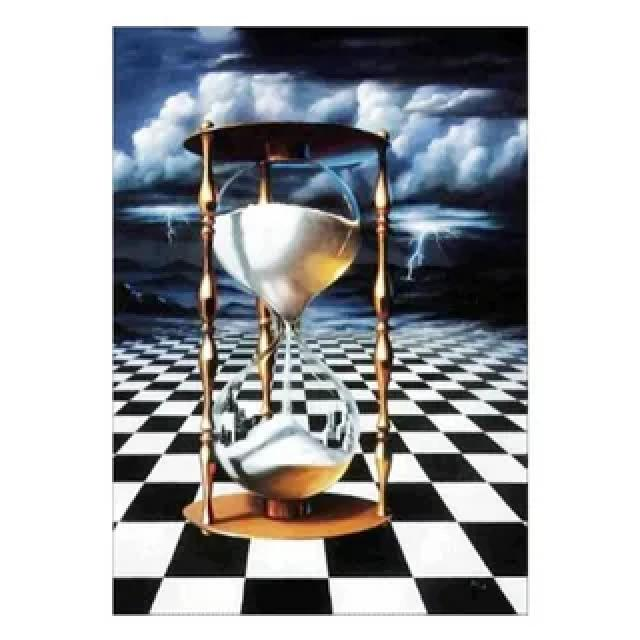clock: (180, 104, 408, 546)
